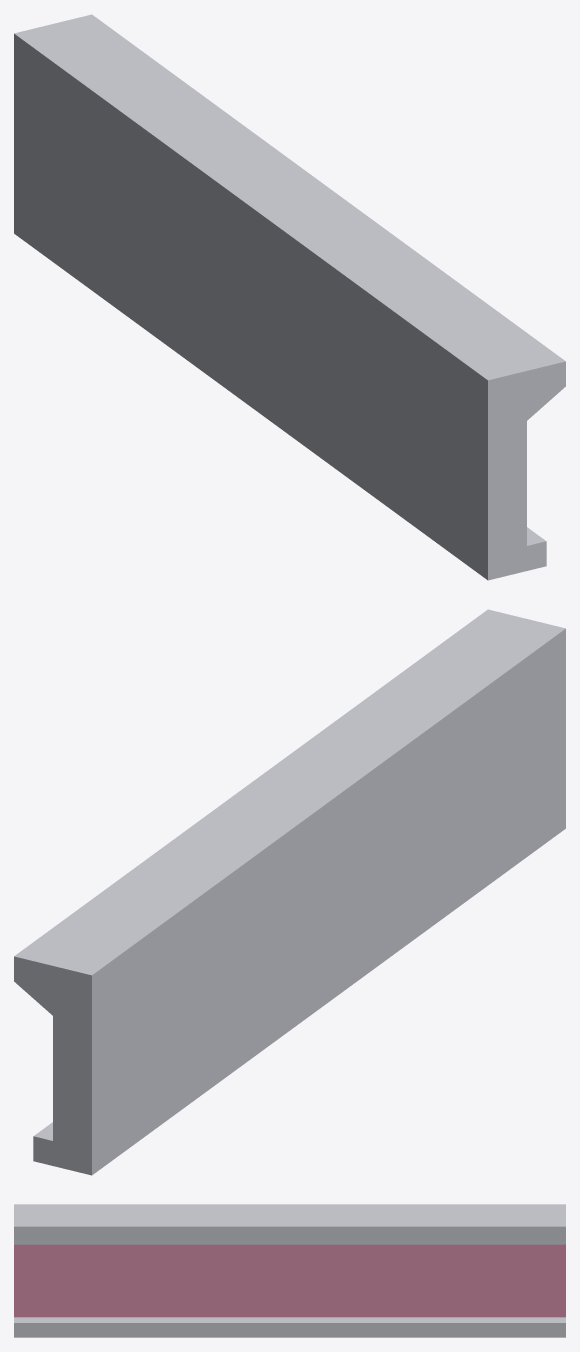
File: space-station-kit--object-022.glb
The picture shows the model from 3 angles, top to bottom: view 1: azimuth 30°, elevation 25°; view 2: azimuth 150°, elevation 25°; view 3: azimuth 270°, elevation 25°; orthographic projection. The views are drawn at different scales.
Visible parts, largest first — view 1: object_022; view 2: object_022; view 3: object_022.
Boxes of the visible parts, x1,y1,x2,y2 form: object_022: (14, 14, 565, 580); object_022: (14, 609, 565, 1175); object_022: (14, 1204, 565, 1337).
Bounding box in the file's own units: 0.095 × 0.2329 × 1.
